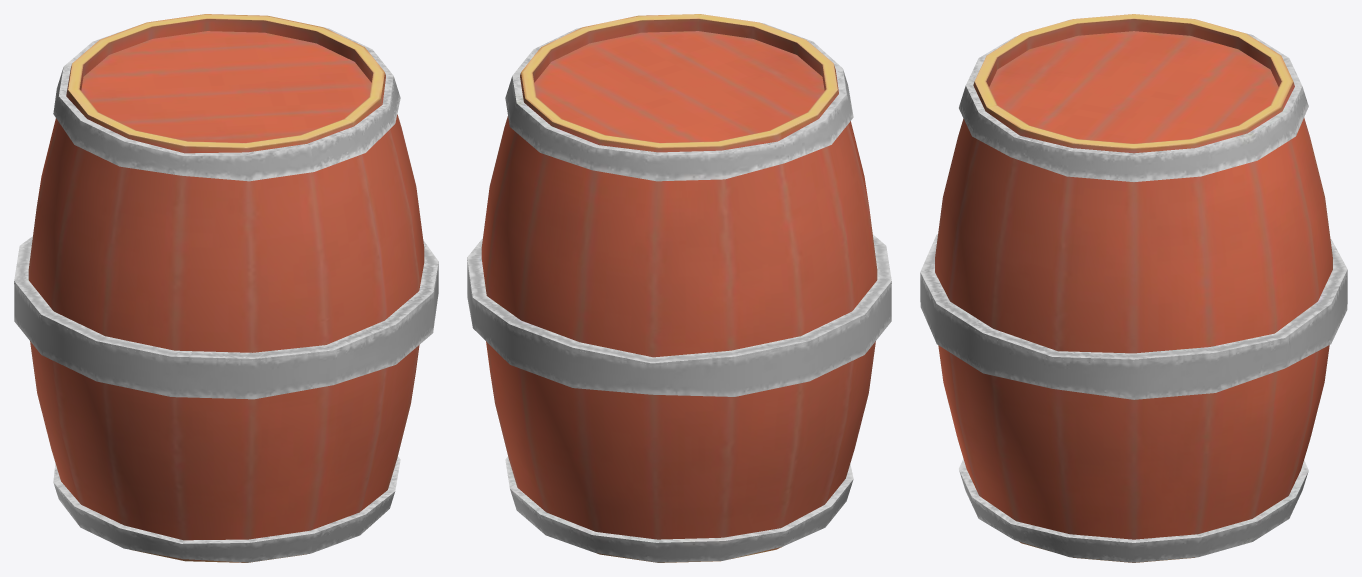
Rendered from barrel.glb.
3 renders of one model, left to right at view 1: azimuth 30°, elevation 25°; view 2: azimuth 150°, elevation 25°; view 3: azimuth 270°, elevation 25°, orthographic.
Parts seen in each view (by area): view 1: Barrel; view 2: Barrel; view 3: Barrel.
Boxes of the visible parts, box(x1,y1,x2,y2) form: Barrel: box(14, 14, 438, 562); Barrel: box(467, 14, 891, 562); Barrel: box(920, 14, 1347, 562).
Size of the model in its own units: 0.9027 by 0.9652 by 0.9027.
Materials: 1 (1 with a texture image).
